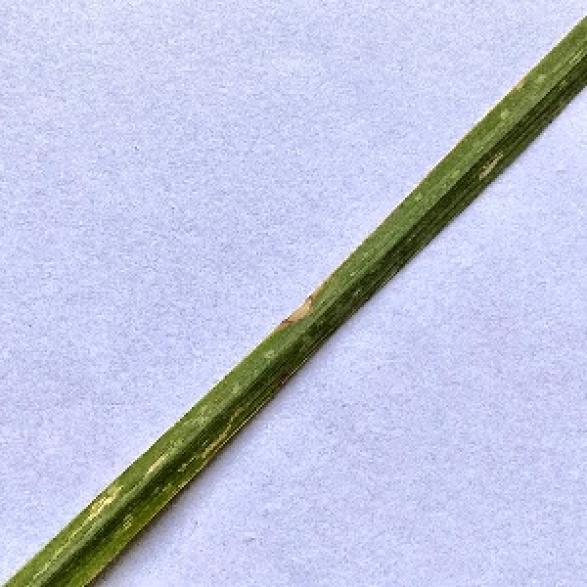Leaf_smut: (27, 284, 378, 585), (321, 13, 585, 282)
